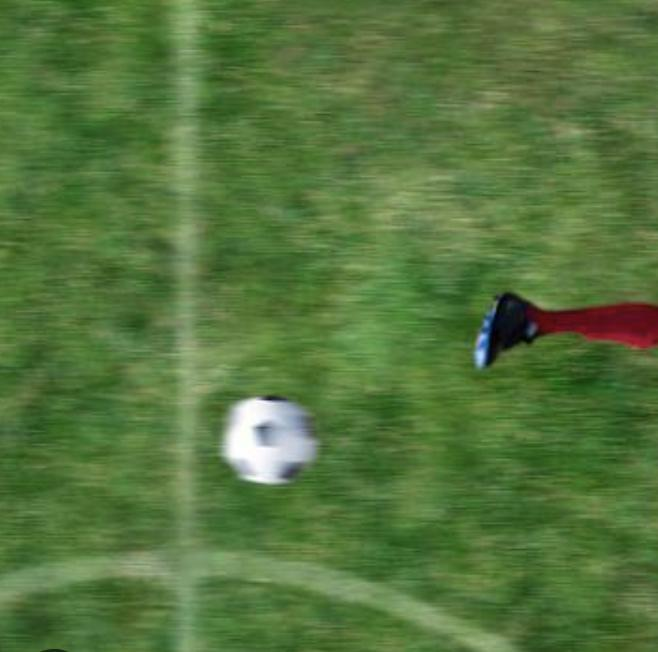Sports-Ball: (224, 396, 318, 483)
